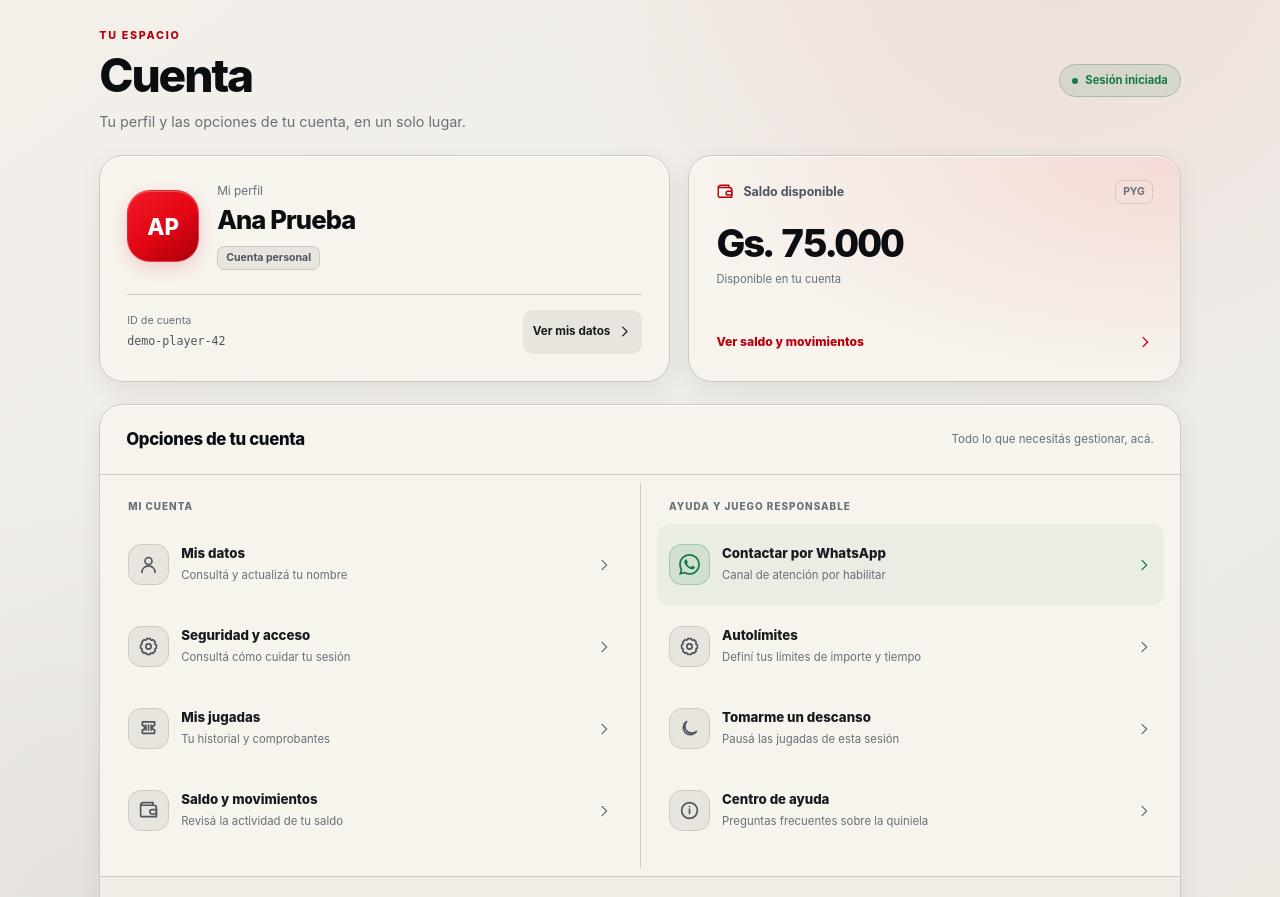
Scenario: Account dashboard › returns from the Mis datos panel to Cuenta and restores focus
The image size is (1280, 897).
Click the button "Mis datos Consultá y actualizá tu nombre" at (149, 565), box [116,524,624,606]
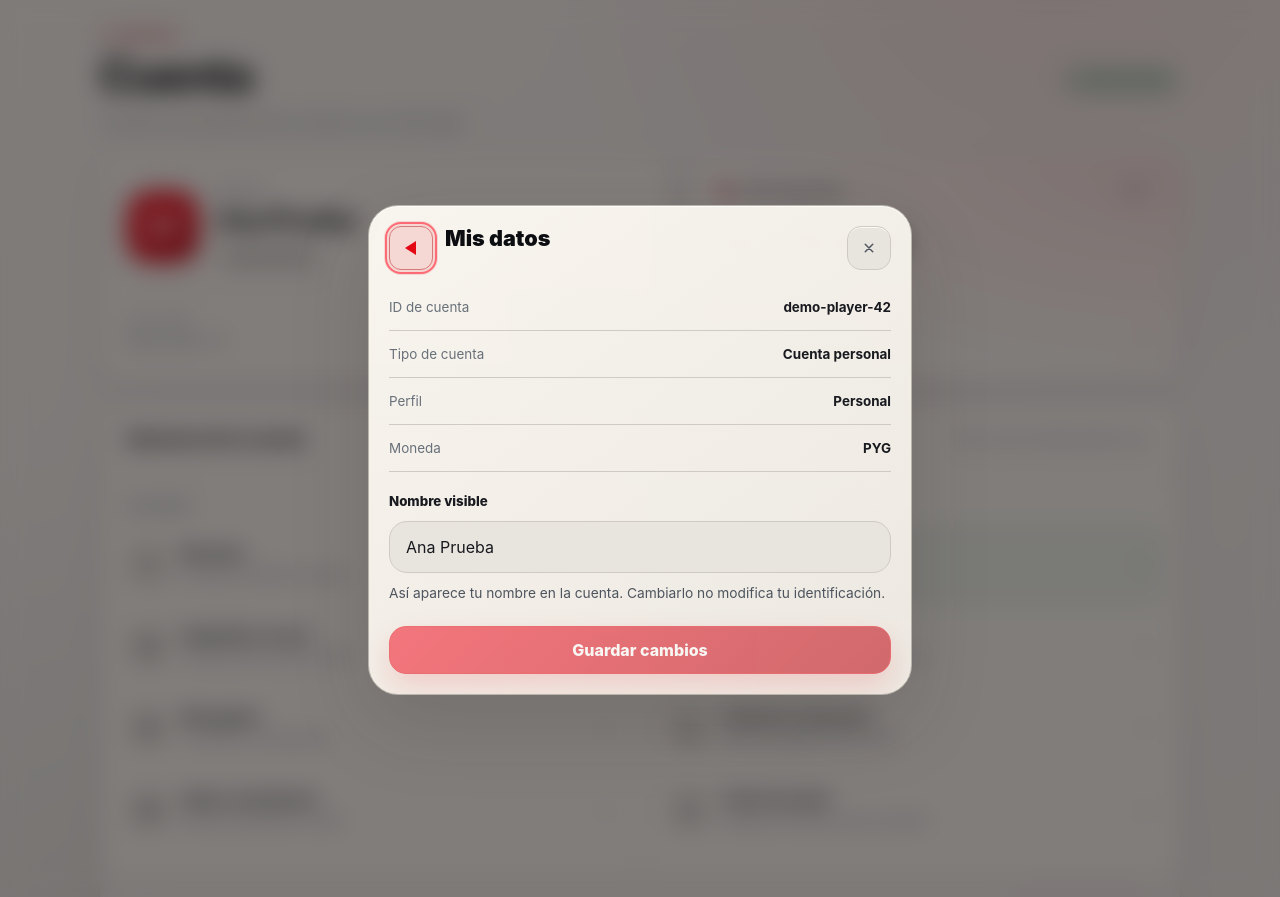
Click the button named "Volver a Cuenta" at (411, 248), box [389,226,433,270]
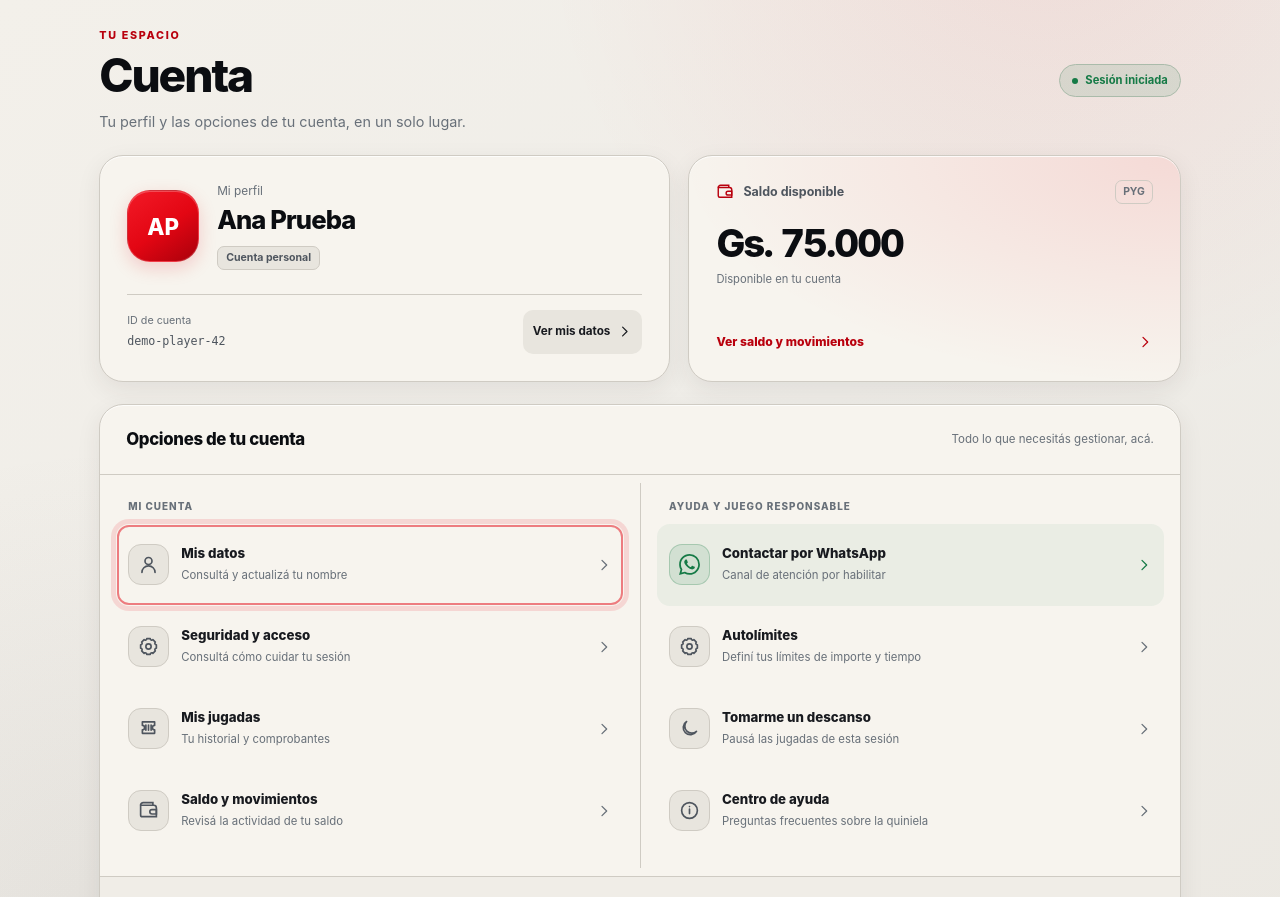
Expected: the dialog is gone
